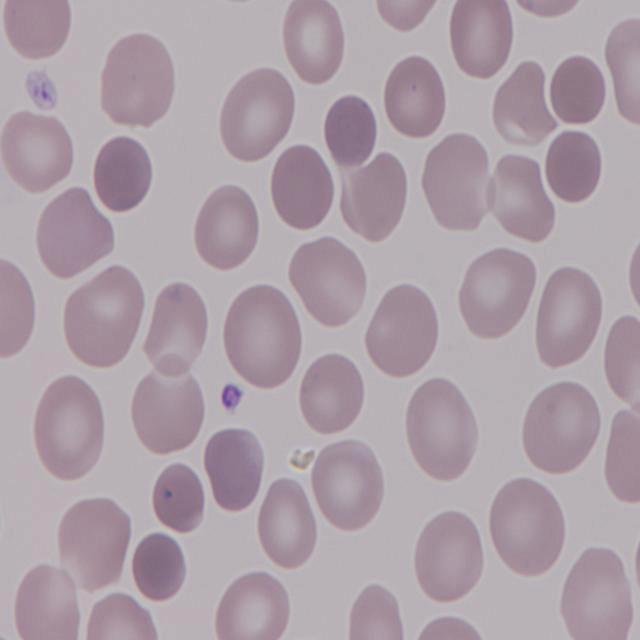RBC: (218, 280, 302, 394), (62, 261, 148, 370), (488, 475, 571, 580), (30, 374, 104, 488), (32, 184, 118, 282), (214, 66, 296, 168), (518, 378, 604, 475), (96, 28, 176, 132), (364, 278, 442, 384), (286, 232, 369, 331), (55, 494, 134, 598), (532, 262, 608, 370), (456, 245, 538, 344), (404, 377, 481, 482), (413, 502, 489, 608), (310, 435, 390, 534), (420, 132, 498, 233), (558, 543, 638, 640), (128, 362, 208, 457), (140, 278, 213, 381), (340, 150, 412, 246), (0, 106, 76, 196), (193, 180, 264, 276), (253, 476, 320, 574), (488, 150, 556, 244), (279, 0, 347, 89), (381, 55, 448, 145), (298, 350, 366, 437), (205, 428, 269, 520), (446, 0, 516, 83), (13, 562, 84, 640), (214, 571, 292, 640), (0, 0, 75, 66), (0, 253, 38, 362), (605, 9, 640, 126), (603, 404, 640, 512), (604, 307, 640, 413), (346, 579, 408, 640), (86, 588, 161, 638), (369, 0, 444, 34), (414, 613, 491, 640)
Spherocyte: (270, 141, 341, 235), (92, 129, 160, 216), (546, 125, 608, 206), (321, 90, 382, 169), (150, 456, 210, 536), (544, 50, 607, 125), (131, 528, 190, 602)
